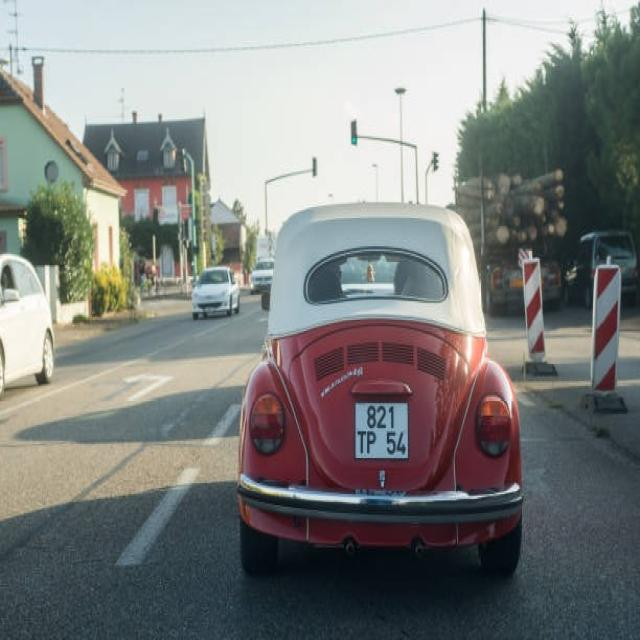0: (0, 267, 53, 387), (189, 265, 241, 317)
cars: (255, 199, 523, 566)
